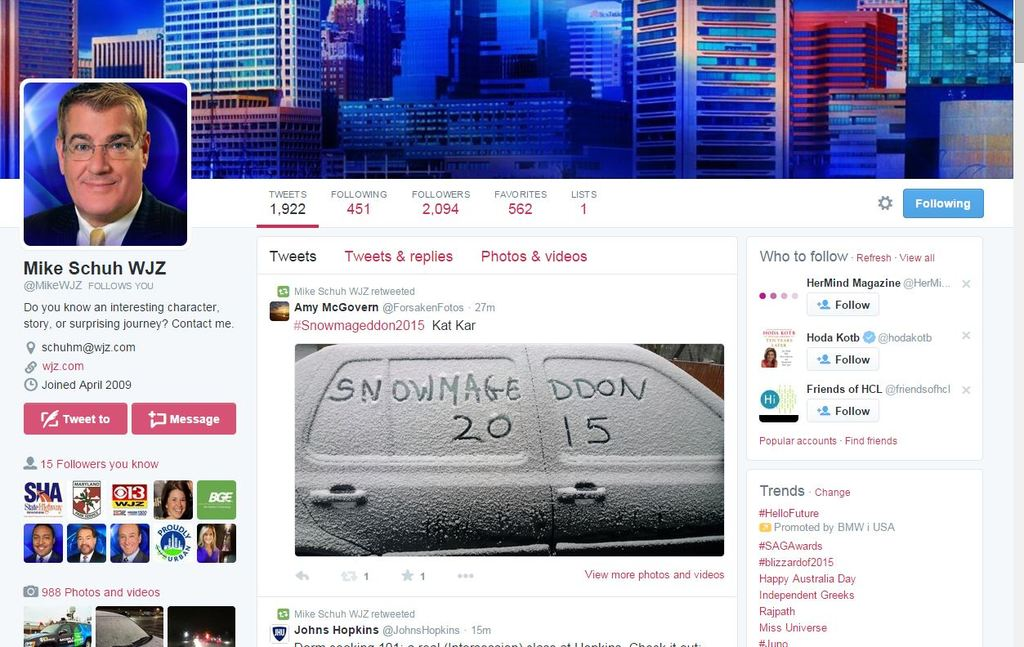Car: (292, 342, 724, 558), (96, 607, 164, 646), (22, 621, 91, 646)
